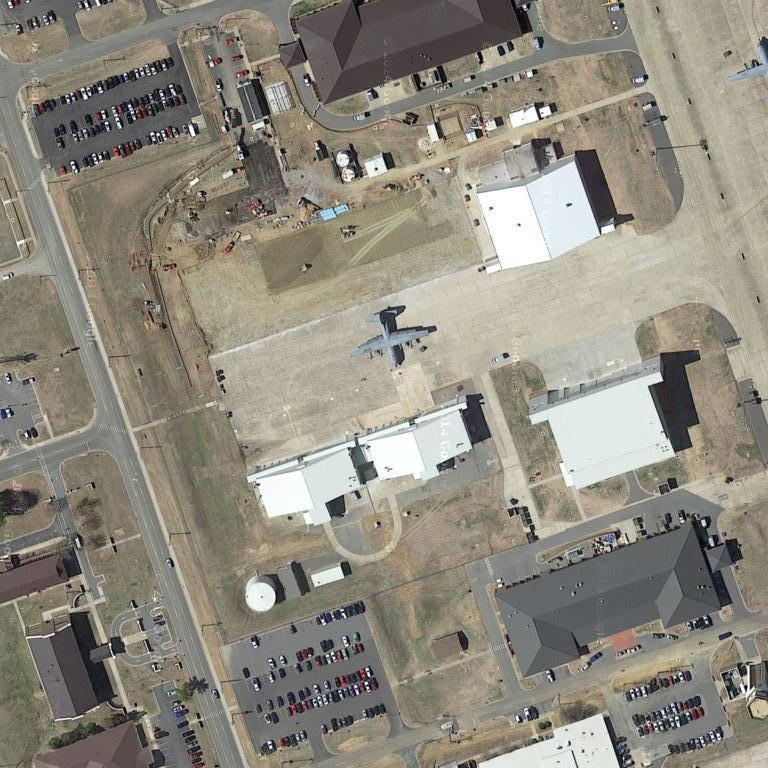C-130: (354, 299, 439, 372)
